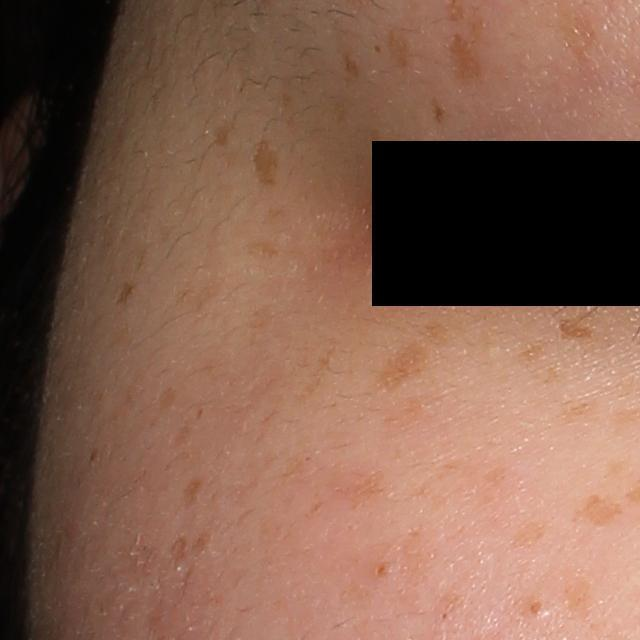comedo: (524, 595, 544, 620)
melasma: (376, 320, 449, 395), (306, 462, 393, 521), (288, 337, 343, 406), (555, 2, 597, 65), (561, 564, 597, 623), (570, 493, 625, 531), (447, 32, 482, 88), (249, 129, 282, 187), (503, 518, 549, 557), (387, 24, 420, 75), (180, 474, 216, 516), (188, 521, 215, 562), (240, 236, 283, 261), (514, 342, 551, 369), (558, 317, 596, 342), (168, 534, 189, 572), (112, 279, 140, 306), (213, 118, 238, 146), (562, 397, 592, 420), (343, 46, 361, 80), (428, 95, 446, 126)
